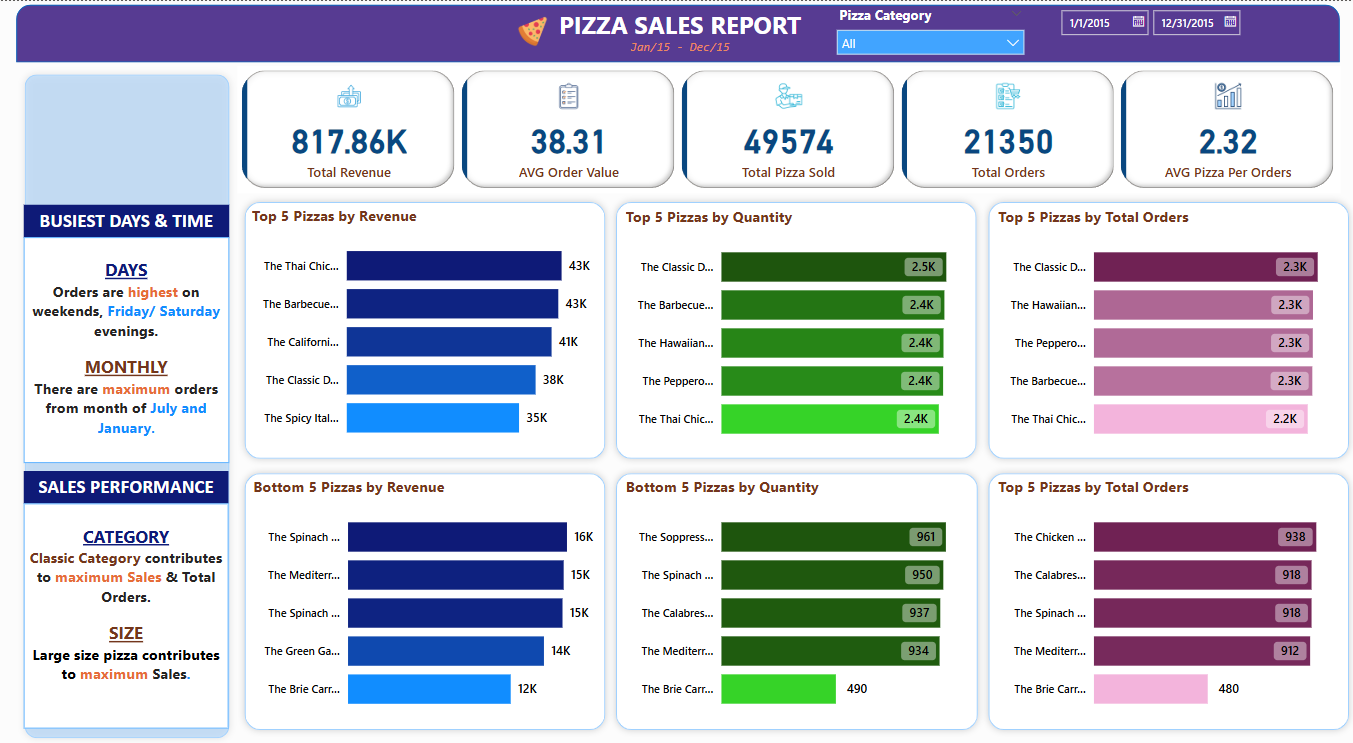

This screenshot's page, from the dashboard's own definition file:
{"tool":"powerbi","page":{"name":"Best / Worst Sellers","canvas":[1500,825],"ordinal":1},"visuals":[{"type":"cardVisual","fields":{"Data":["PIZZA_SALES.Total Revenue","PIZZA_SALES.AVG Order Value","PIZZA_SALES.Total Pizza Sold","PIZZA_SALES.Total Orders","PIZZA_SALES.AVG Pizza Per Orders"]},"box":[262.5,71.9,1220.3,140.6],"z":0},{"type":"shape","box":[18.2,3.6,1463.6,63.6],"z":1000},{"type":"textbox","box":[589.8,3.4,323.7,50.8],"z":2000},{"type":"textbox","box":[678,35.6,149.2,30.5],"z":3000},{"type":"image","box":[550.8,11.9,78,42.4],"z":4000},{"type":"shape","box":[262.7,214.3,414.7,300],"z":5000},{"type":"shape","box":[18.8,73.4,242.2,750],"z":6000},{"type":"textbox","box":[25.8,225.8,227,36],"z":7000},{"type":"textbox","box":[25.8,261.8,227,249.4],"z":8000},{"type":"textbox","box":[26.3,519.8,226.7,35.9],"z":9000},{"type":"textbox","box":[26.3,555.7,226.7,248.8],"z":10000},{"type":"slicer","fields":{"Values":["PIZZA_SALES.pizza_category"]},"box":[914.5,0,227.4,66.1],"z":11000},{"type":"slicer","fields":{"Values":["PIZZA_SALES.order_date"]},"box":[1161.3,0,227.4,66.1],"z":12000},{"type":"shape","box":[262.7,514.2,414.7,300],"z":13000},{"type":"shape","box":[673.2,514.2,416.1,300],"z":14000},{"type":"shape","box":[673.2,214.3,414.7,300],"z":15000},{"type":"shape","box":[1085.2,214.3,414.7,300],"z":16000},{"type":"shape","box":[1085.2,514.2,414.7,300],"z":17000},{"type":"clusteredBarChart","title":"Top 5 Pizzas by Revenue ","fields":{"Category":["PIZZA_SALES.pizza_name"],"Y":["PIZZA_SALES.Total Revenue"]},"box":[273.7,225.3,389.8,275.1],"z":18000},{"type":"clusteredBarChart","title":"Bottom 5 Pizzas by Revenue ","fields":{"Category":["PIZZA_SALES.pizza_name"],"Y":["PIZZA_SALES.Total Revenue"]},"box":[275.1,525.3,389.8,275.1],"z":19000},{"type":"clusteredBarChart","title":"Top 5 Pizzas by Quantity","fields":{"Category":["PIZZA_SALES.pizza_name"],"Y":["PIZZA_SALES.Total Pizza Sold"]},"box":[686.6,226.7,390.8,275],"z":20000},{"type":"clusteredBarChart","title":"Bottom 5 Pizzas by Quantity","fields":{"Category":["PIZZA_SALES.pizza_name"],"Y":["PIZZA_SALES.Total Pizza Sold"]},"box":[686.6,525.8,390.8,275],"z":21000},{"type":"clusteredBarChart","title":"Top 5 Pizzas by Total Orders ","fields":{"Category":["PIZZA_SALES.pizza_name"],"Y":["PIZZA_SALES.Total Orders"]},"box":[1098.3,226.7,390.8,275],"z":22000},{"type":"clusteredBarChart","title":"Top 5 Pizzas by Total Orders","fields":{"Category":["PIZZA_SALES.pizza_name"],"Y":["PIZZA_SALES.Total Orders"]},"box":[1098.3,525.8,390.8,275],"z":23000}]}

Visuals, with their boxes in screenshot pixels (x1, y1, x2, y2), scaled from the page's 1500x825 canvas onto the 1353x743 screenshot:
cardVisual - PIZZA_SALES.Total Revenue x PIZZA_SALES.AVG Order Value: 237,65,1337,191
shape: 16,3,1337,61
textbox: 532,3,824,49
textbox: 612,32,746,60
image: 497,11,567,49
shape: 237,193,611,463
shape: 17,66,235,742
textbox: 23,203,228,236
textbox: 23,236,228,460
textbox: 24,468,228,500
textbox: 24,500,228,725
slicer - PIZZA_SALES.pizza_category: 825,0,1030,60
slicer - PIZZA_SALES.order_date: 1047,0,1253,60
shape: 237,463,611,733
shape: 607,463,983,733
shape: 607,193,981,463
shape: 979,193,1352,463
shape: 979,463,1352,733
"Top 5 Pizzas by Revenue " clusteredBarChart: 247,203,598,451
"Bottom 5 Pizzas by Revenue " clusteredBarChart: 248,473,600,721
"Top 5 Pizzas by Quantity" clusteredBarChart: 619,204,972,452
"Bottom 5 Pizzas by Quantity" clusteredBarChart: 619,474,972,721
"Top 5 Pizzas by Total Orders " clusteredBarChart: 991,204,1343,452
"Top 5 Pizzas by Total Orders" clusteredBarChart: 991,474,1343,721
